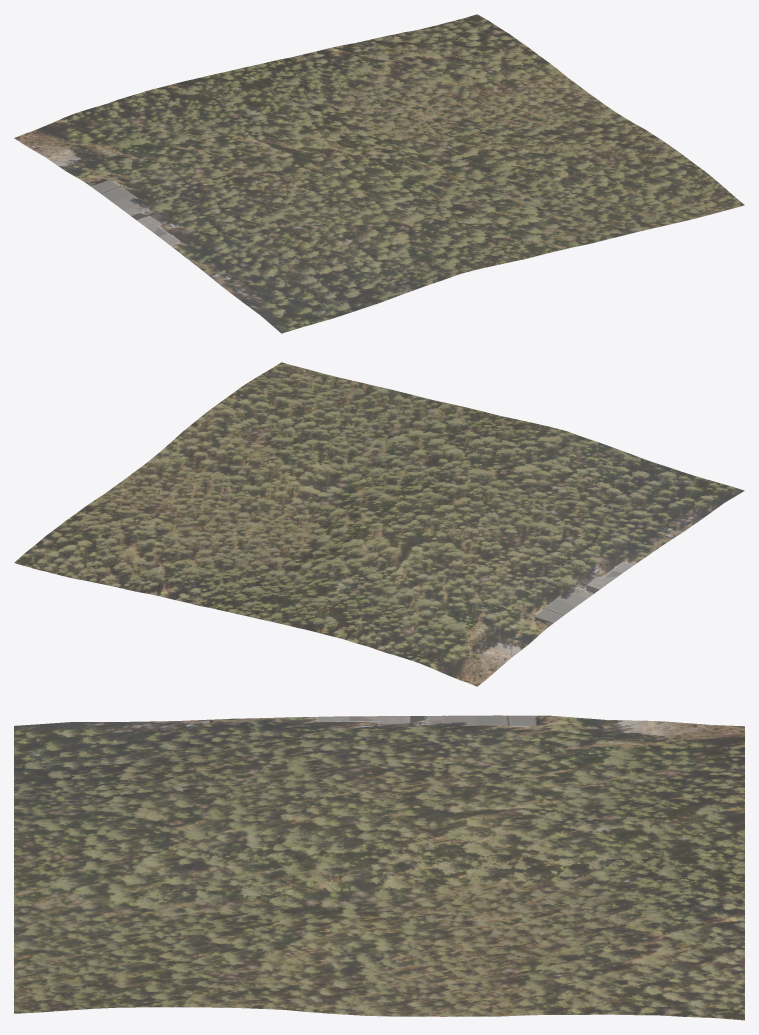
Rendered from CM_Terrain_24493326_6816722.fbx.
3 renders of one model, top to bottom at view 1: azimuth 30°, elevation 25°; view 2: azimuth 150°, elevation 25°; view 3: azimuth 270°, elevation 25°, orthographic. The views are drawn at different scales.
Visible parts, largest first — view 1: CM_Terrain_24493326_6816722_LOD0; view 2: CM_Terrain_24493326_6816722_LOD0; view 3: CM_Terrain_24493326_6816722_LOD0.
Part boxes in pixels (<box>): CM_Terrain_24493326_6816722_LOD0: <box>14,14,744,333</box>; CM_Terrain_24493326_6816722_LOD0: <box>14,362,744,686</box>; CM_Terrain_24493326_6816722_LOD0: <box>14,715,744,1020</box>.
Size of what is drawn, in the model's own units: 205 by 8.94 by 205.
